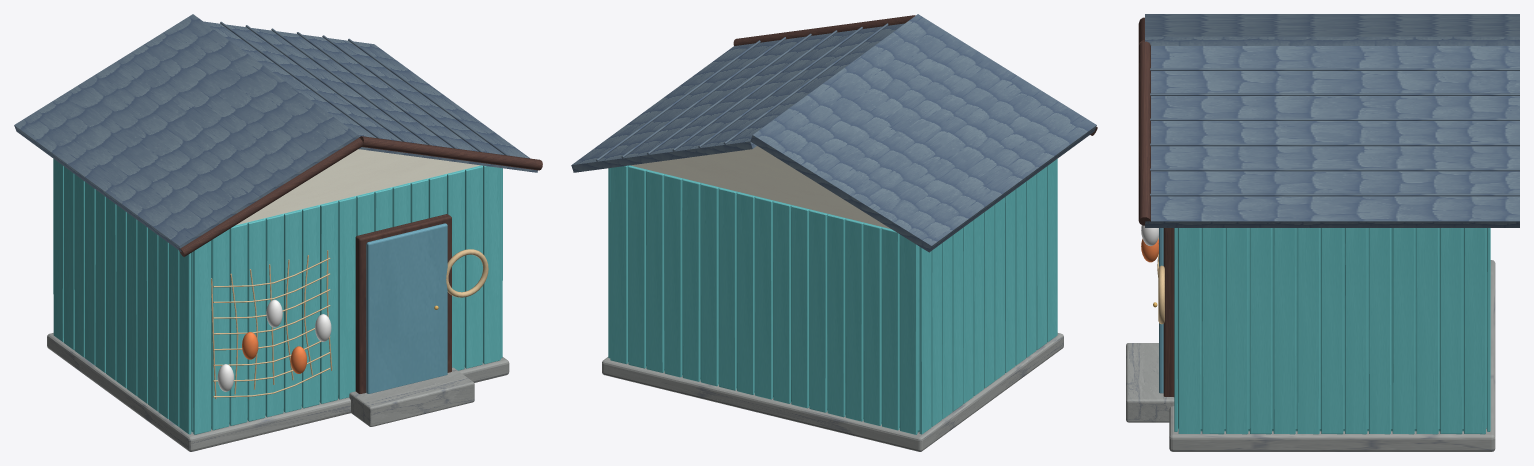
The model's file is harbor_shed.glb.
The picture shows the model from 3 angles, left to right: view 1: azimuth 30°, elevation 25°; view 2: azimuth 150°, elevation 25°; view 3: azimuth 270°, elevation 25°; orthographic projection. The views are drawn at different scales.
Parts seen in each view (by area): view 1: harbor_shed; view 2: harbor_shed; view 3: harbor_shed.
Boxes of the visible parts, box(x1,y1,x2,y2) form: harbor_shed: box(14, 14, 542, 451); harbor_shed: box(571, 14, 1097, 451); harbor_shed: box(1126, 14, 1519, 451).
Bounding box in the file's own units: 5.05 × 3.84 × 4.2.
2 materials, 2 textured.
